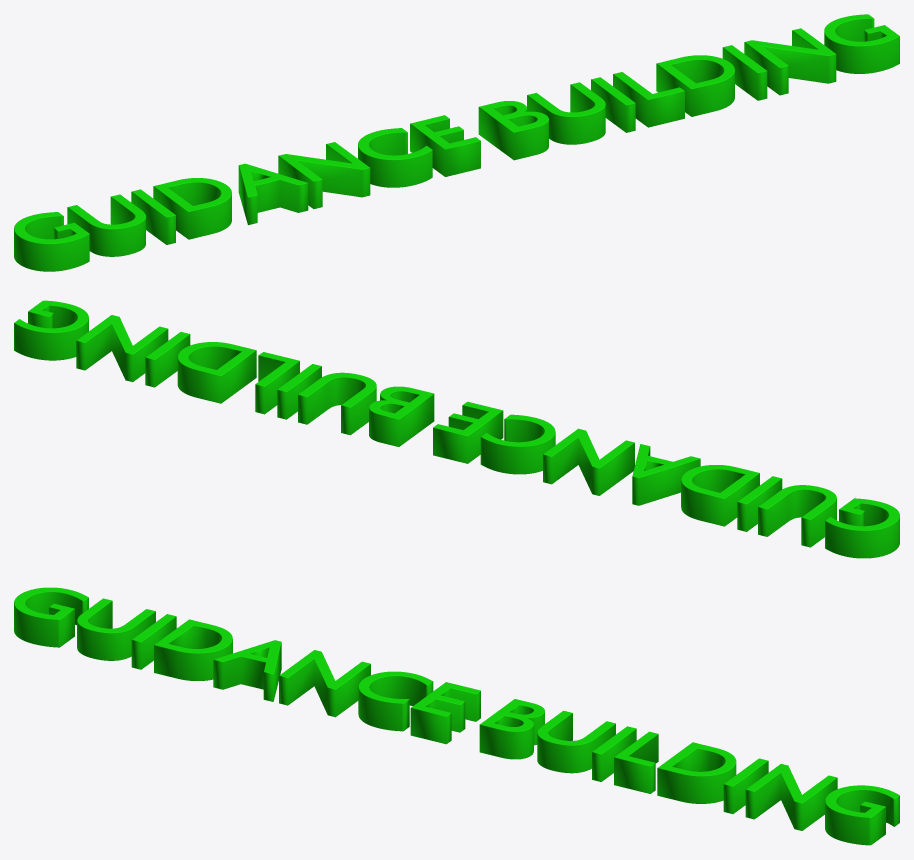
The model's file is guidance_building.glb.
The picture shows the model from 3 angles, top to bottom: view 1: azimuth 30°, elevation 25°; view 2: azimuth 150°, elevation 25°; view 3: azimuth 330°, elevation 25°; orthographic projection.
Visible parts, largest first — view 1: Text.001; view 2: Text.001; view 3: Text.001.
Boxes of the visible parts, <box> form: Text.001: <box>14,14,899,271</box>; Text.001: <box>14,300,899,558</box>; Text.001: <box>14,587,899,845</box>.
Size of the model in its own units: 20.01 by 0.62 by 1.45.
